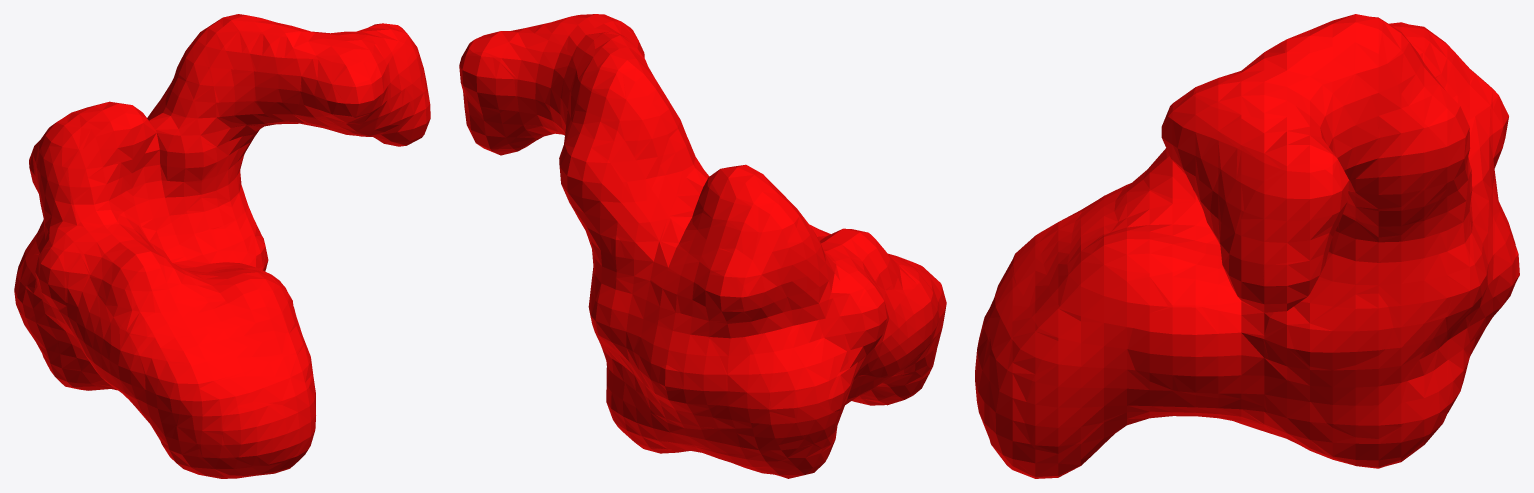
File: Nucleobindin_2_coarse.dae
3 views of the same model, side by side, from view 1: azimuth 30°, elevation 25°; view 2: azimuth 150°, elevation 25°; view 3: azimuth 270°, elevation 25° (orthographic). The views are drawn at different scales.
Visible parts, largest first — view 1: Nucleobindin_2; view 2: Nucleobindin_2; view 3: Nucleobindin_2.
Part boxes in pixels (<box>): Nucleobindin_2: <box>14,14,430,478</box>; Nucleobindin_2: <box>459,14,946,478</box>; Nucleobindin_2: <box>975,14,1519,478</box>.
Bounding box in the file's own units: 57.75 × 52.27 × 50.51.
